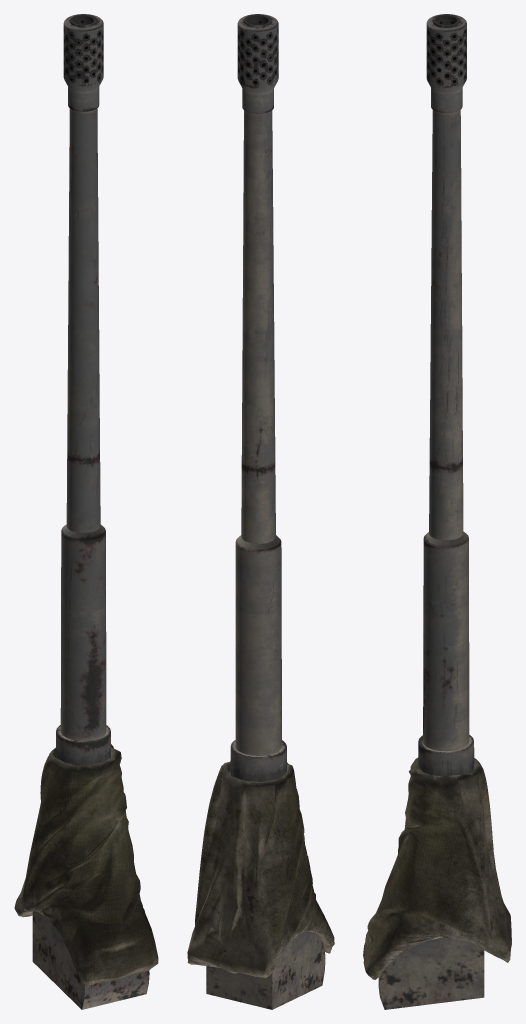
File: Gun_01.glb
3 views of the same model, side by side, from view 1: azimuth 30°, elevation 25°; view 2: azimuth 150°, elevation 25°; view 3: azimuth 270°, elevation 25° (orthographic). The views are drawn at different scales.
Parts seen in each view (by area): view 1: set_0_group_0; view 2: set_0_group_0; view 3: set_0_group_0.
Boxes of the visible parts, x1,y1,x2,y2 form: set_0_group_0: (14,14,158,1009); set_0_group_0: (187,14,334,1009); set_0_group_0: (363,14,511,1009).
Size of the model in its own units: 0.6552 by 6.94 by 0.9624.
Materials: 1 (1 with a texture image).
